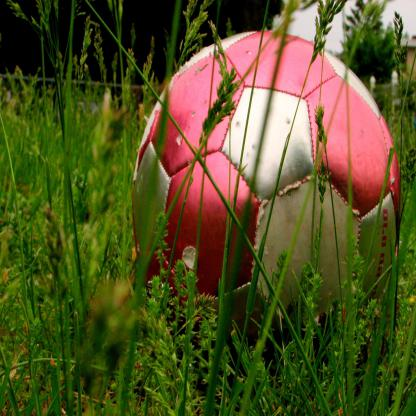Ball: (132, 33, 402, 371)
